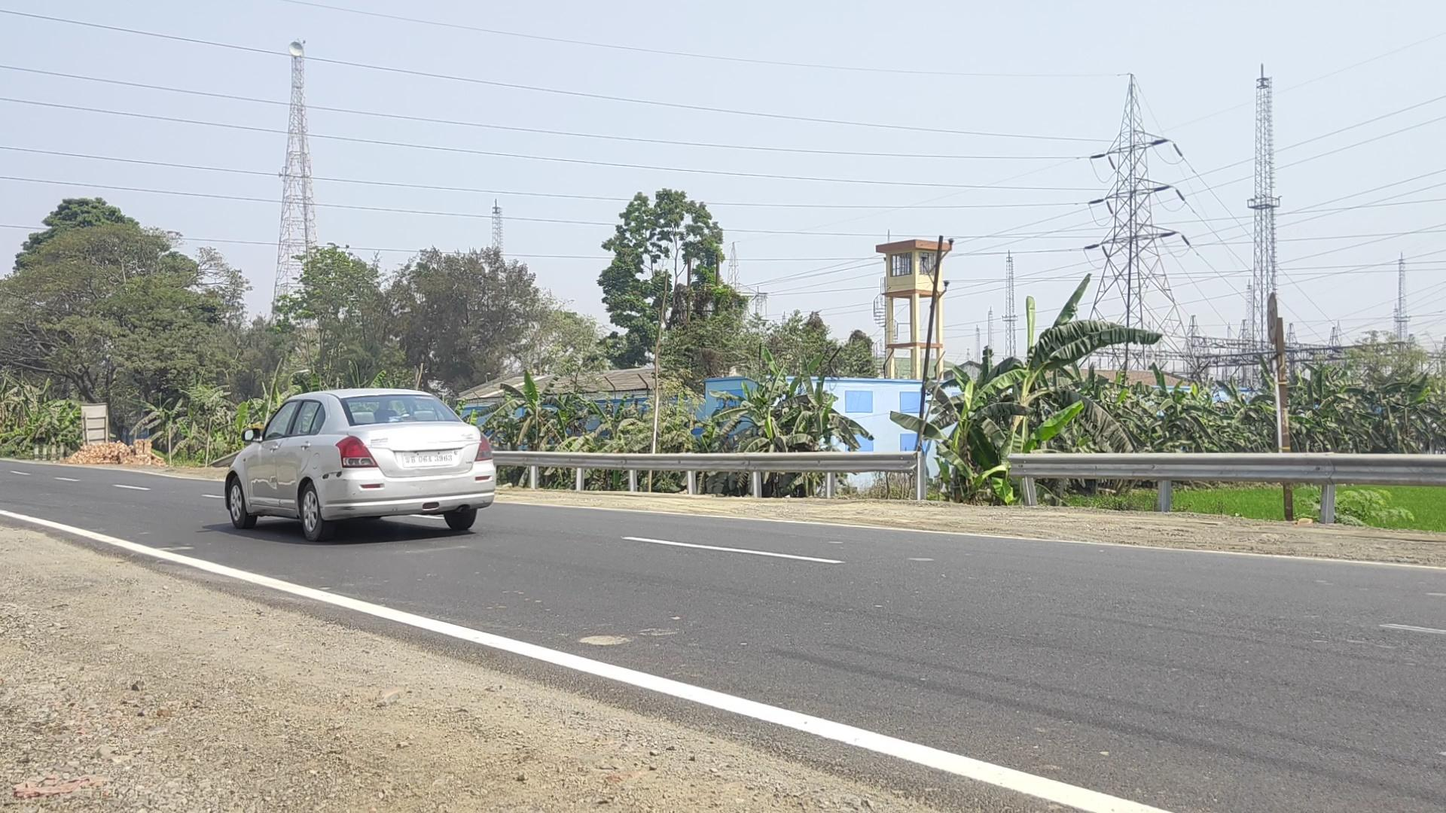car: (224, 388, 496, 542)
